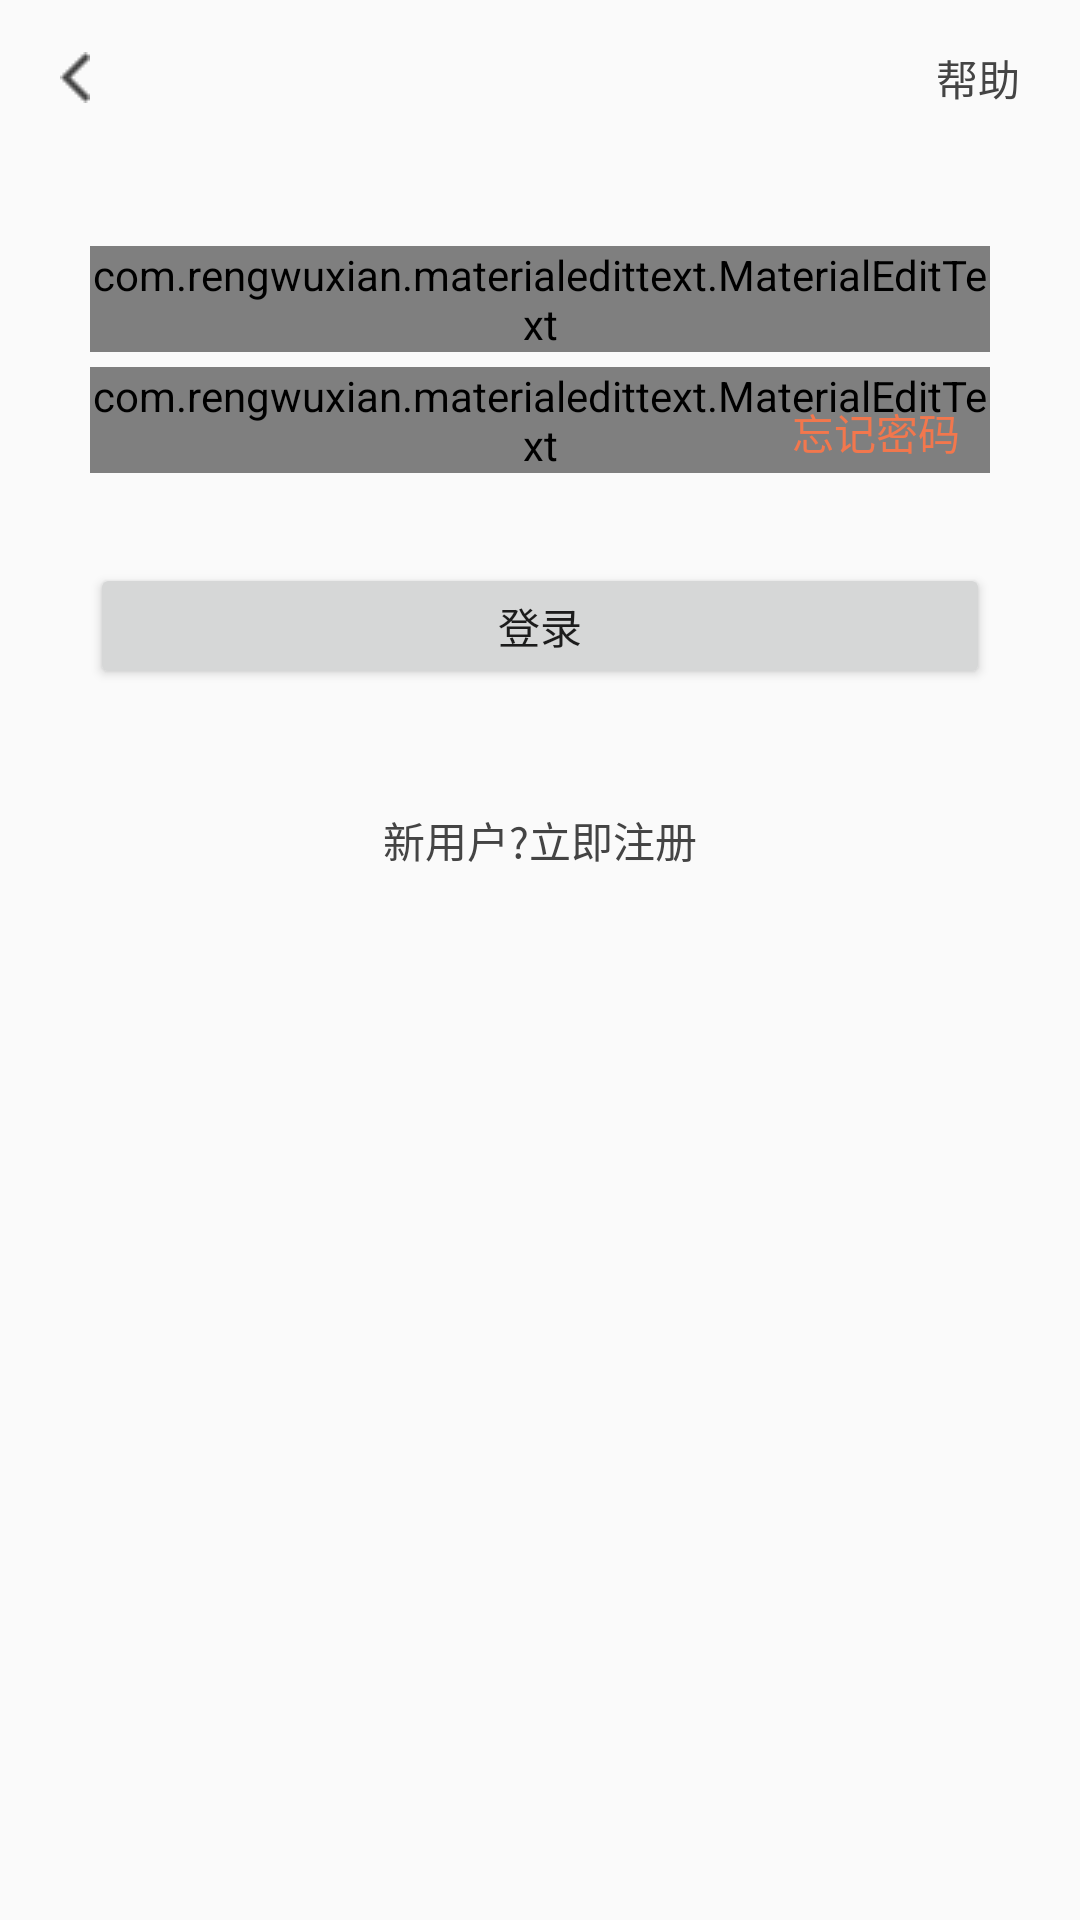

Locate icon controls on the screen. Image size 1080 × 1920, boxes as bbox=(x1, y1, x2, y2).
back: bbox=(60, 52, 90, 103)
